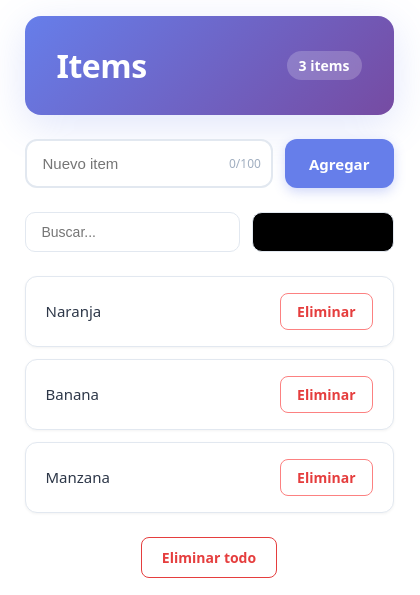
Test: Componente App › Interacción del Formulario y Validaciones › debería permitir escribir y actualizar el conteo de caracteres
The width and height of the screenshot is (420, 595).
Escribimos "Hola" (4 caracteres)
Type "Hola" into the field with placeholder "Nuevo item" at (149, 164), box left=24, top=139, right=273, bottom=188
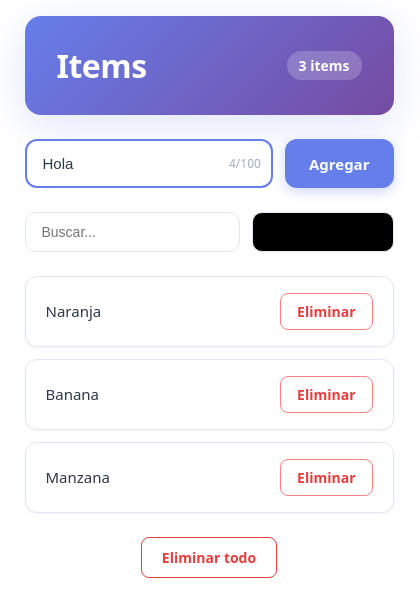
Check: the text "4/100" is shown, box left=229, top=155, right=261, bottom=173
